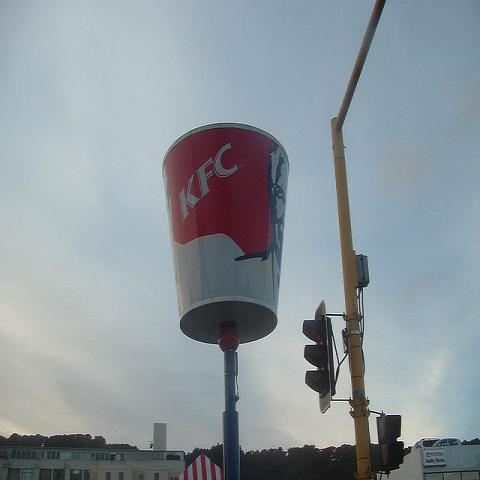car: (432, 438, 463, 446)
